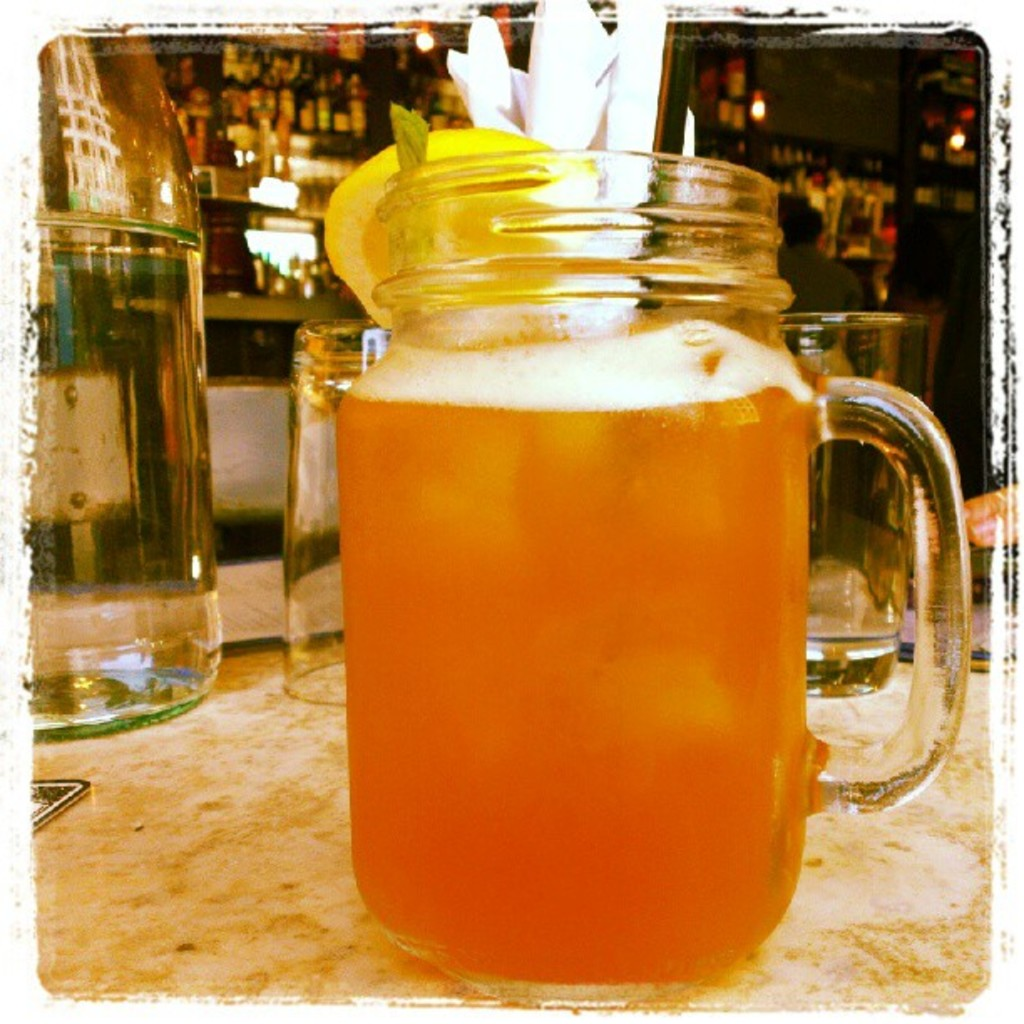Beer: (309, 143, 965, 1008), (152, 38, 901, 297)
